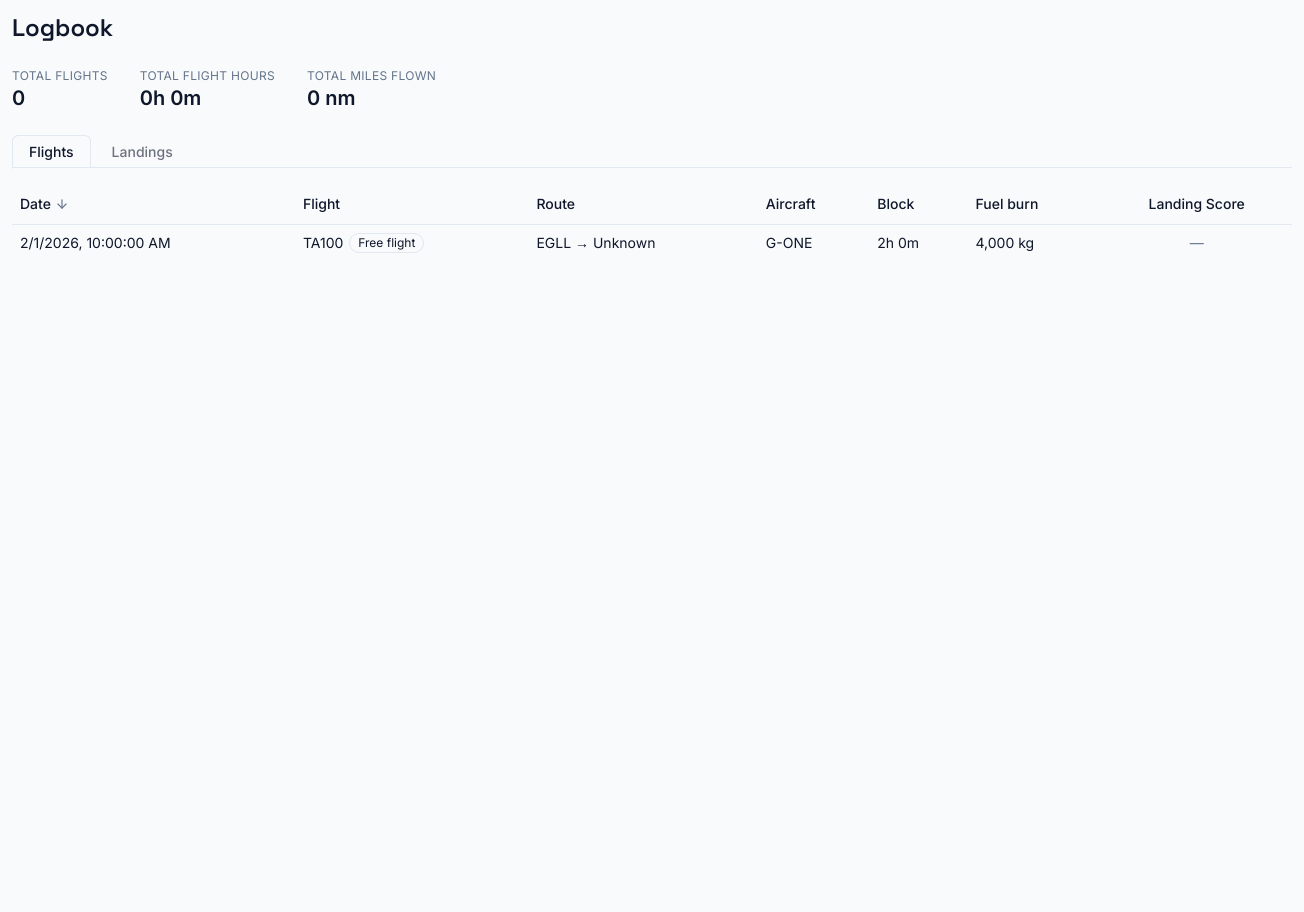
Test: FlightDetail › shows Unknown for a ZZZZ arrival and a Free flight badge on the detail header
What coordinates should you click on to do the following:
click the text "TA100"
I would click on:
 (364, 242)
Its box is [303,232,424,252].
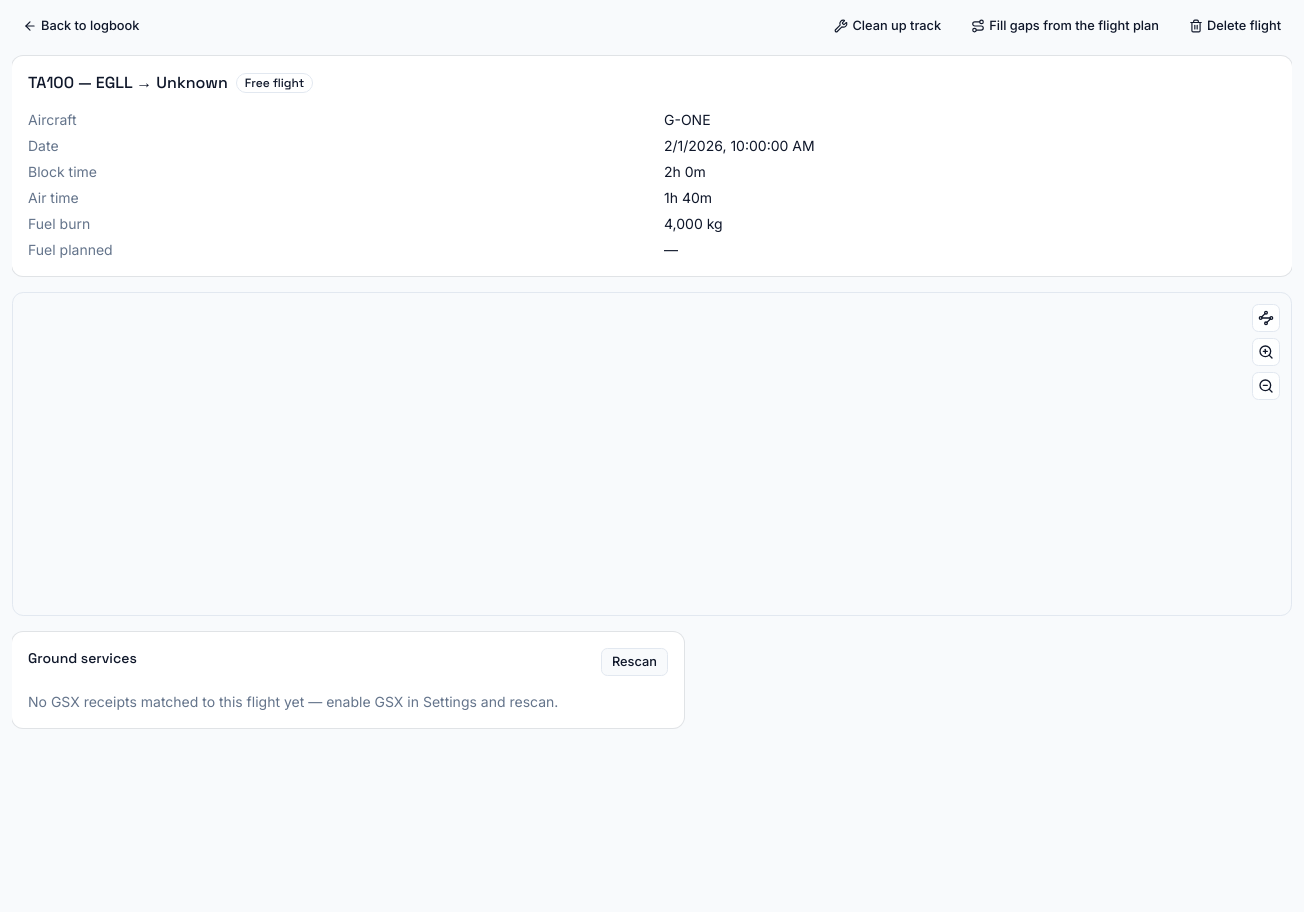
Expected: the text "Free flight" is shown, [236,73,313,93]
Expected: the text "TA100 — EGLL → Unknown" is shown, [28,72,313,93]
